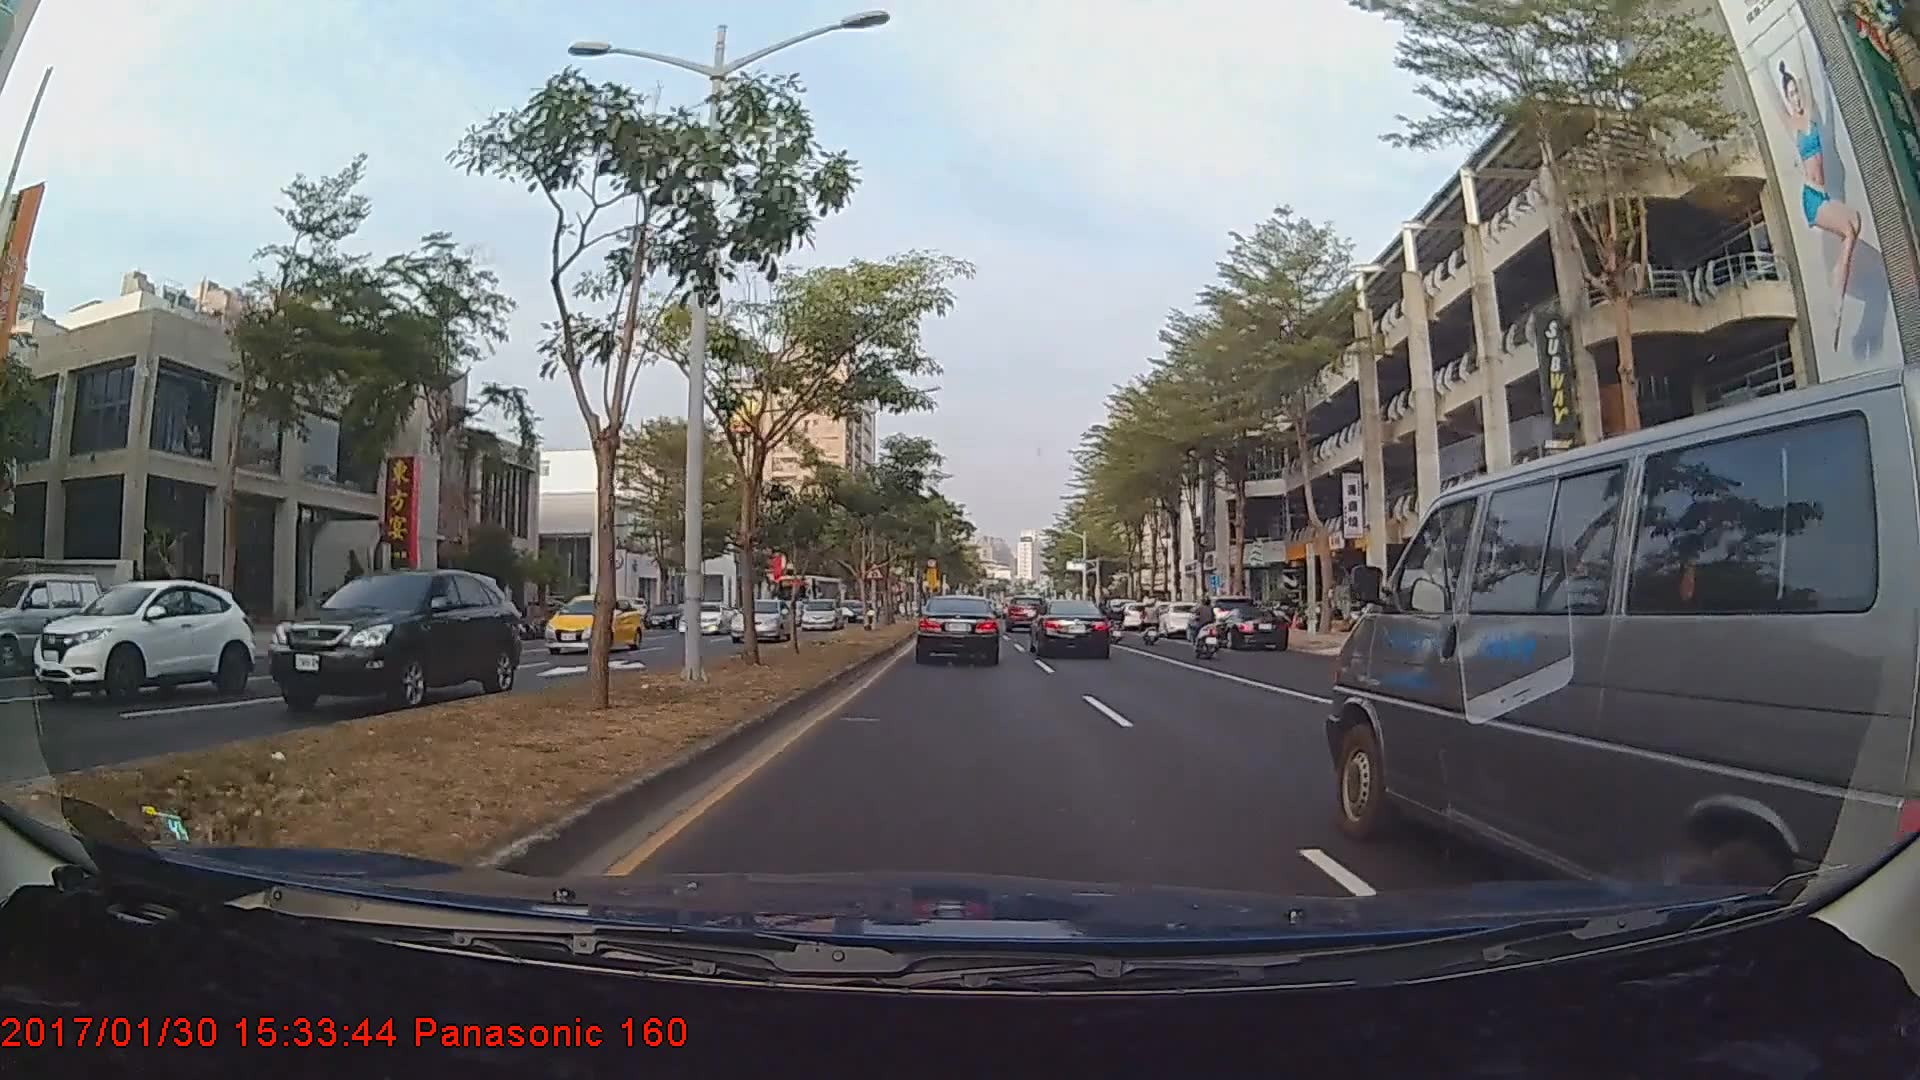rider: (1186, 589, 1226, 664), (1138, 588, 1165, 644)
vehicle: (1316, 400, 1901, 903), (260, 567, 518, 712), (26, 578, 251, 701), (0, 572, 106, 676), (543, 592, 642, 655), (917, 591, 1001, 665), (1031, 597, 1111, 660), (773, 572, 843, 624), (1184, 594, 1255, 644), (1210, 606, 1287, 651), (727, 596, 792, 644), (674, 599, 730, 636), (1148, 601, 1203, 636), (800, 593, 842, 628), (1006, 591, 1045, 627)
